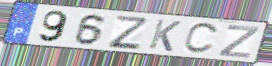6: (74, 13, 109, 46)
9: (37, 9, 69, 43)
C: (182, 22, 222, 55)
K: (147, 18, 183, 53)
Z: (216, 24, 262, 59), (107, 14, 149, 50)
